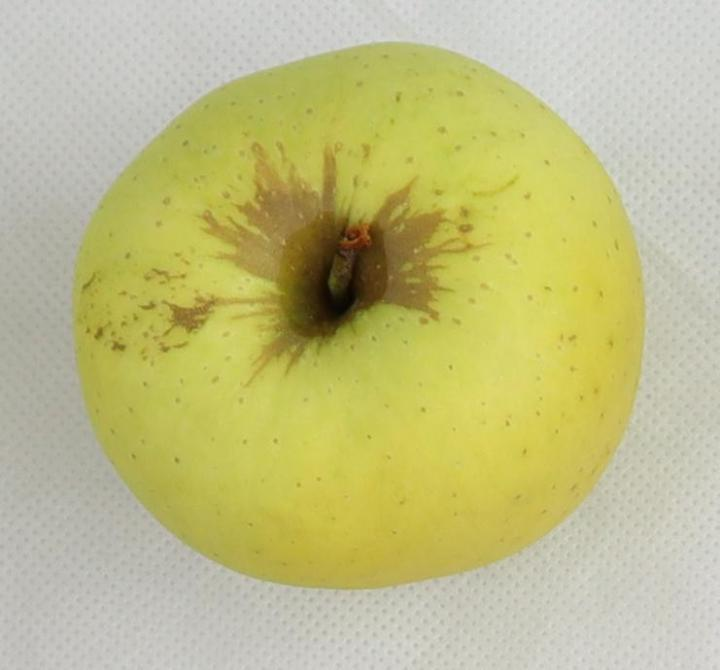apple: (73, 43, 643, 587)
bruise_discoloration: (140, 144, 474, 384)
